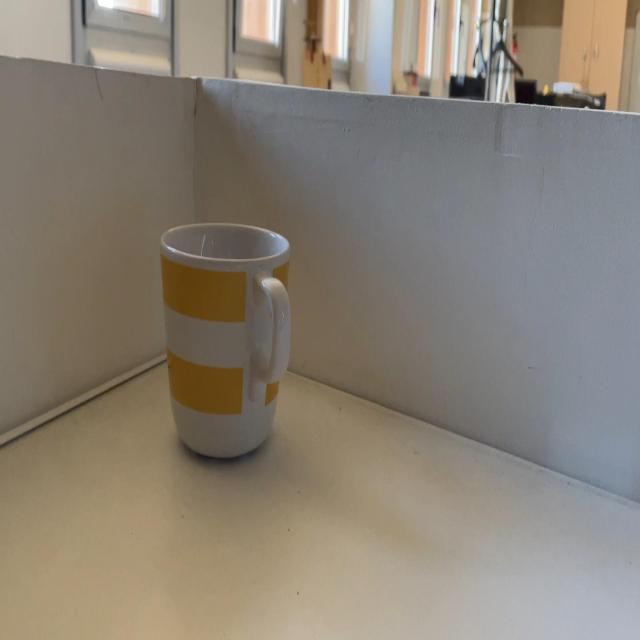cup: (155, 220, 296, 464)
